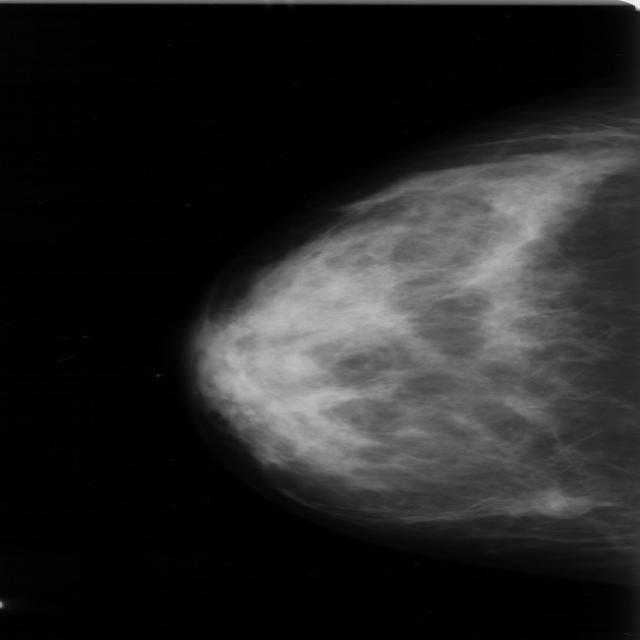tumour: (528, 487, 592, 521)
